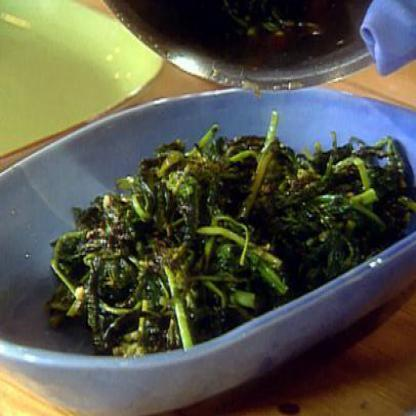broccoli: (49, 106, 415, 367)
